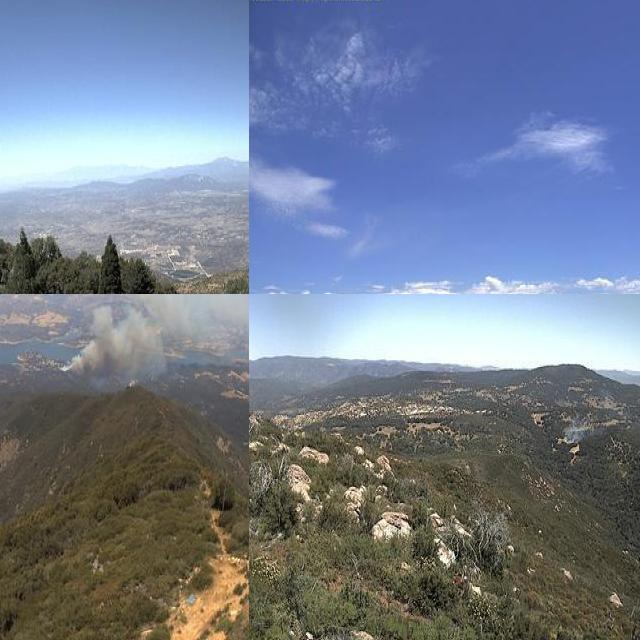smoke: (55, 294, 249, 392), (555, 401, 605, 448)
